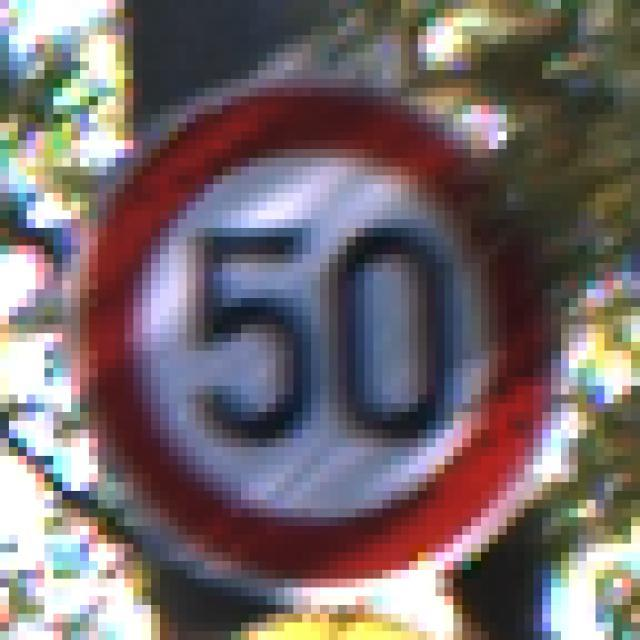speed limit 50: (72, 77, 545, 583)
